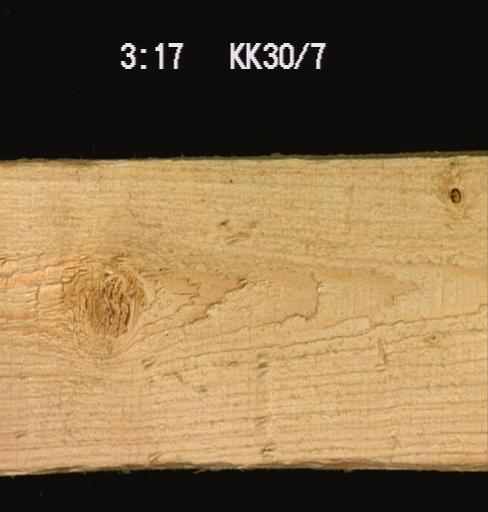dry_knot: (445, 184, 463, 207)
small_knot: (426, 324, 443, 345)
sound_knot: (70, 252, 149, 356)
wave: (2, 146, 126, 176)
